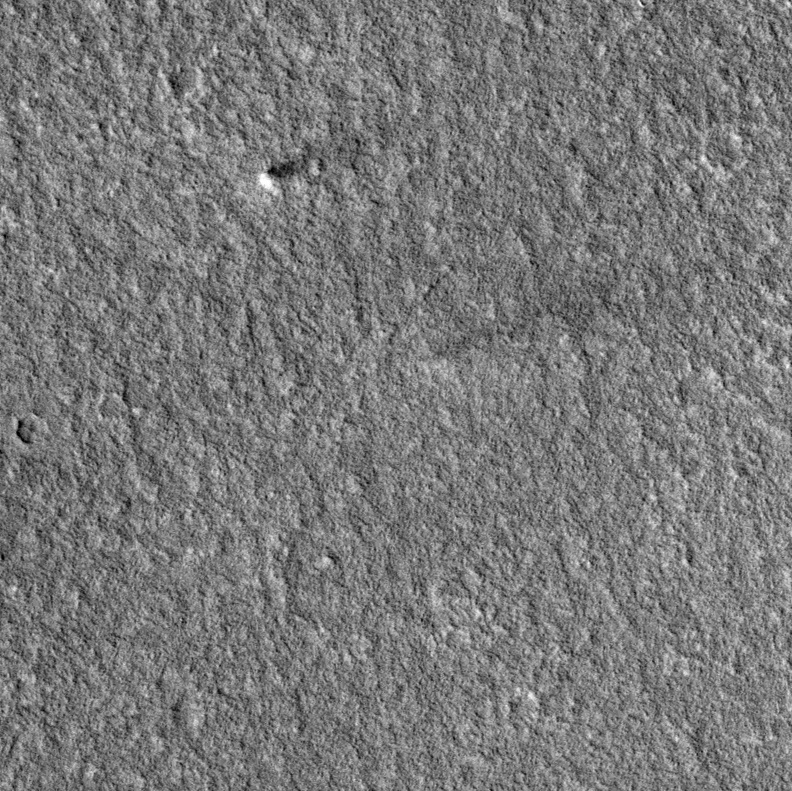dust_devil: (411, 283, 617, 379), (256, 158, 309, 197)
